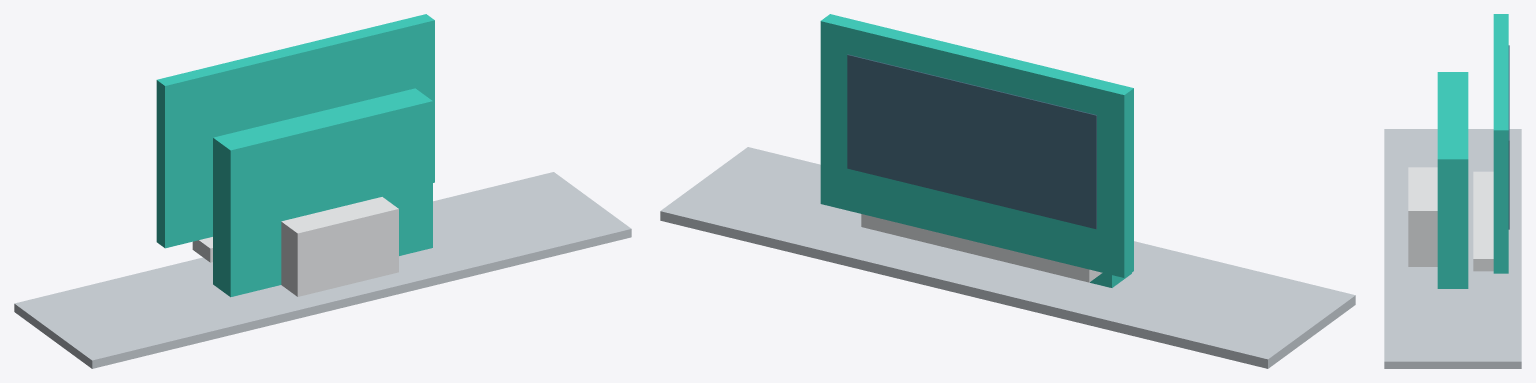
3 views of the same model, side by side, from view 1: azimuth 30°, elevation 25°; view 2: azimuth 150°, elevation 25°; view 3: azimuth 270°, elevation 25° (orthographic). The views are drawn at different scales.
Parts seen in each view (by area): view 1: Exhibition Booth Concept; view 2: Exhibition Booth Concept; view 3: Exhibition Booth Concept.
Part boxes in pixels (x1,y1,x2,y2): Exhibition Booth Concept: (14,14,631,368); Exhibition Booth Concept: (660,14,1355,368); Exhibition Booth Concept: (1384,14,1521,368).
Bounding box in the file's own units: 8 × 2.9 × 2.
